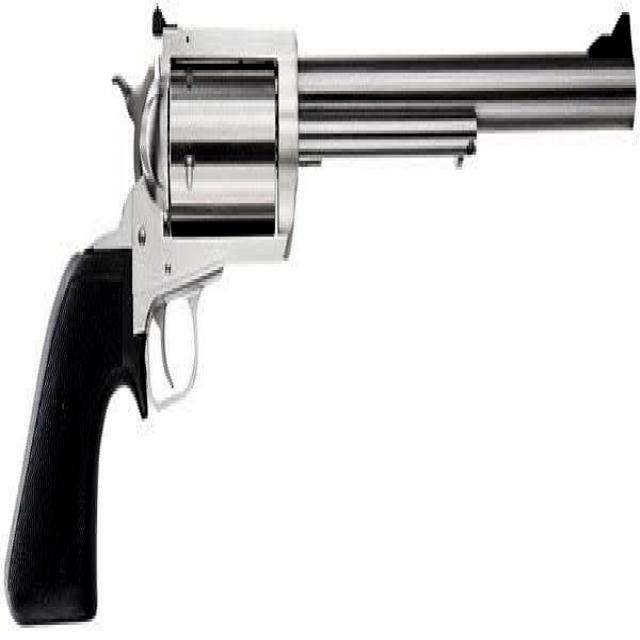revolver: (6, 6, 640, 633)
